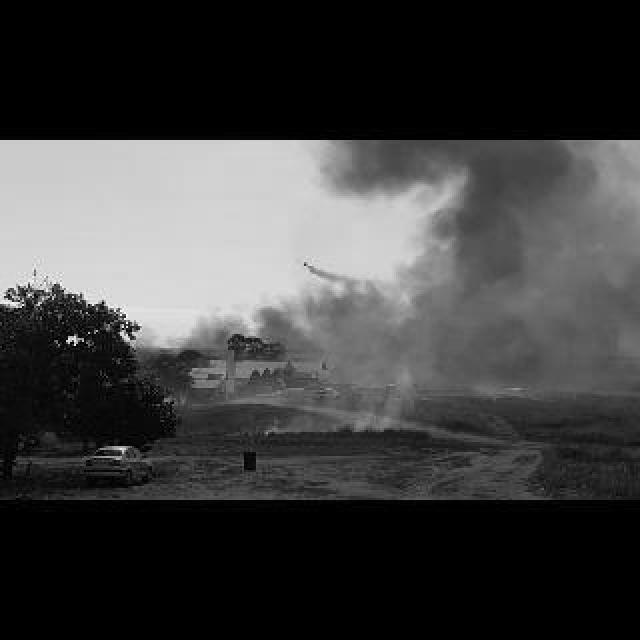Fire: (266, 414, 282, 434)
Smoke: (291, 139, 640, 394)
